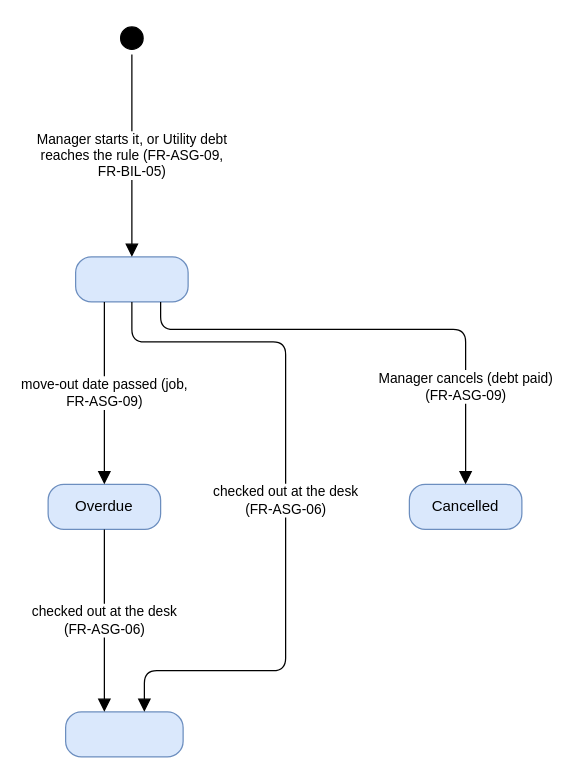
Some shapes in this 574 by 779 pixel diagram are drawn without their labels. Here are the shapes that lost their labels. From the top down, the centre of each, then its label:
At (131,279): "Notice sent".
At (123,734): "Checked out".
